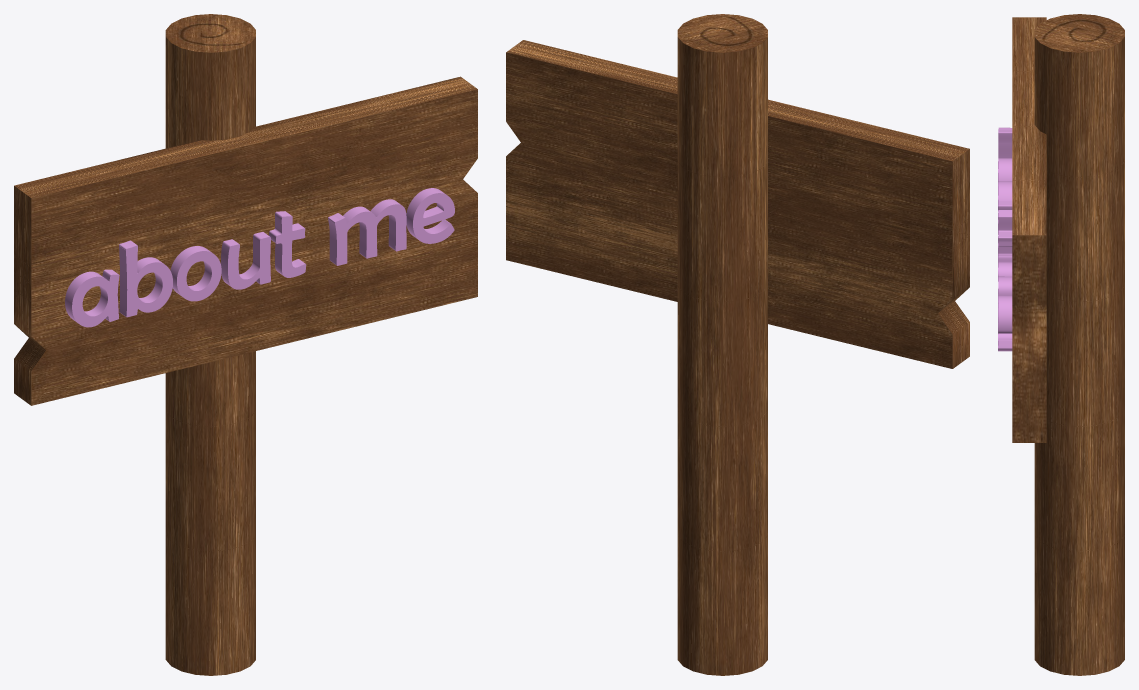
3 renders of one model, left to right at view 1: azimuth 30°, elevation 25°; view 2: azimuth 150°, elevation 25°; view 3: azimuth 270°, elevation 25°, orthographic.
Parts seen in each view (by area): view 1: pCube1, Text.001; view 2: pCube1; view 3: pCube1, Text.001.
Part boxes in pixels (x1,y1,x2,y2): pCube1: (14,14,477,675); Text.001: (65,188,454,327); pCube1: (506,14,969,675); pCube1: (1012,14,1124,675); Text.001: (998,127,1012,351).
Bounding box in the file's own units: 1.07 × 1.43 × 0.2634.
2 materials, 1 textured.
